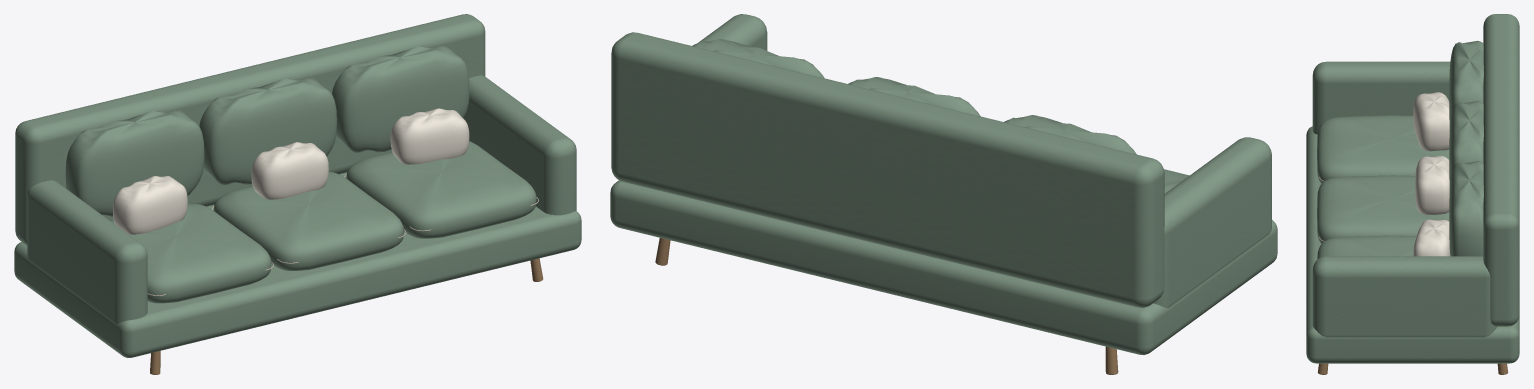
3 renders of one model, left to right at view 1: azimuth 30°, elevation 25°; view 2: azimuth 150°, elevation 25°; view 3: azimuth 270°, elevation 25°, orthographic. The views are drawn at different scales.
Visible parts, largest first — view 1: upholstered_base, back_frame, seat_2, seat_1, arm_-1, cushion_back_2, cushion_back_1, cushion_back_0, seat_0, arm_1, scatter_pillow_2, scatter_pillow_1 (+1 smaller); view 2: back_frame, upholstered_base, arm_-1, cushion_back_1, cushion_back_0, cushion_back_2, arm_1; view 3: arm_1, back_frame, upholstered_base, arm_-1, seat_1, seat_0, cushion_back_2, cushion_back_0, cushion_back_1, seat_2, scatter_pillow_0, scatter_pillow_1 (+1 smaller).
Part boxes in pixels (bbox=[...]): upholstered_base: bbox=[14, 172, 581, 357]; back_frame: bbox=[15, 14, 485, 245]; seat_2: bbox=[346, 141, 536, 238]; seat_1: bbox=[213, 171, 403, 270]; arm_-1: bbox=[27, 180, 147, 323]; cushion_back_2: bbox=[332, 45, 469, 152]; cushion_back_1: bbox=[199, 78, 336, 185]; cushion_back_0: bbox=[65, 110, 204, 216]; seat_0: bbox=[110, 204, 271, 303]; arm_1: bbox=[463, 75, 576, 215]; scatter_pillow_2: bbox=[390, 108, 469, 164]; scatter_pillow_1: bbox=[251, 142, 328, 199]; back_frame: bbox=[611, 32, 1164, 307]; upholstered_base: bbox=[610, 180, 1277, 354]; arm_-1: bbox=[1153, 137, 1271, 307]; cushion_back_1: bbox=[848, 77, 980, 116]; cushion_back_0: bbox=[1004, 115, 1136, 154]; cushion_back_2: bbox=[692, 39, 824, 78]; arm_1: bbox=[697, 14, 767, 50]; arm_1: bbox=[1312, 256, 1497, 337]; back_frame: bbox=[1483, 14, 1519, 326]; upholstered_base: bbox=[1306, 126, 1519, 363]; arm_-1: bbox=[1312, 61, 1450, 134]; seat_1: bbox=[1317, 175, 1449, 243]; seat_0: bbox=[1317, 115, 1449, 183]; cushion_back_2: bbox=[1449, 161, 1483, 256]; cushion_back_0: bbox=[1449, 40, 1483, 128]; cushion_back_1: bbox=[1449, 101, 1483, 188]; seat_2: bbox=[1317, 235, 1416, 259]; scatter_pillow_0: bbox=[1413, 92, 1449, 151]; scatter_pillow_1: bbox=[1415, 156, 1449, 214].
Bounding box in the file's own units: 2.2 × 0.85 × 0.95.
Materials: 4 (3 with a texture image).
